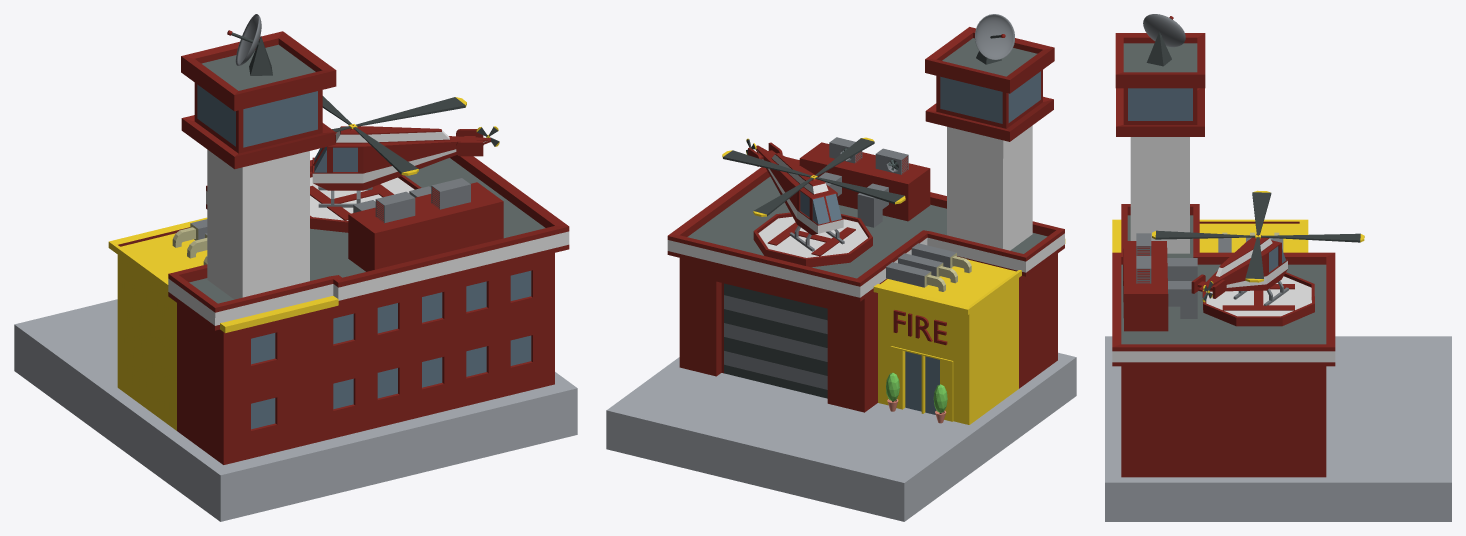
Rendered from fire.glb.
3 renders of one model, left to right at view 1: azimuth 30°, elevation 25°; view 2: azimuth 150°, elevation 25°; view 3: azimuth 270°, elevation 25°, orthographic. The views are drawn at different scales.
Visible parts, largest first — view 1: Fire Station; view 2: Fire Station; view 3: Fire Station.
Boxes of the visible parts, left/top/right/bottom form: Fire Station: left=14, top=14, right=577, bottom=521; Fire Station: left=606, top=14, right=1076, bottom=521; Fire Station: left=1105, top=14, right=1451, bottom=521.
Bounding box in the file's own units: 0.9986 × 1.24 × 0.9986.
